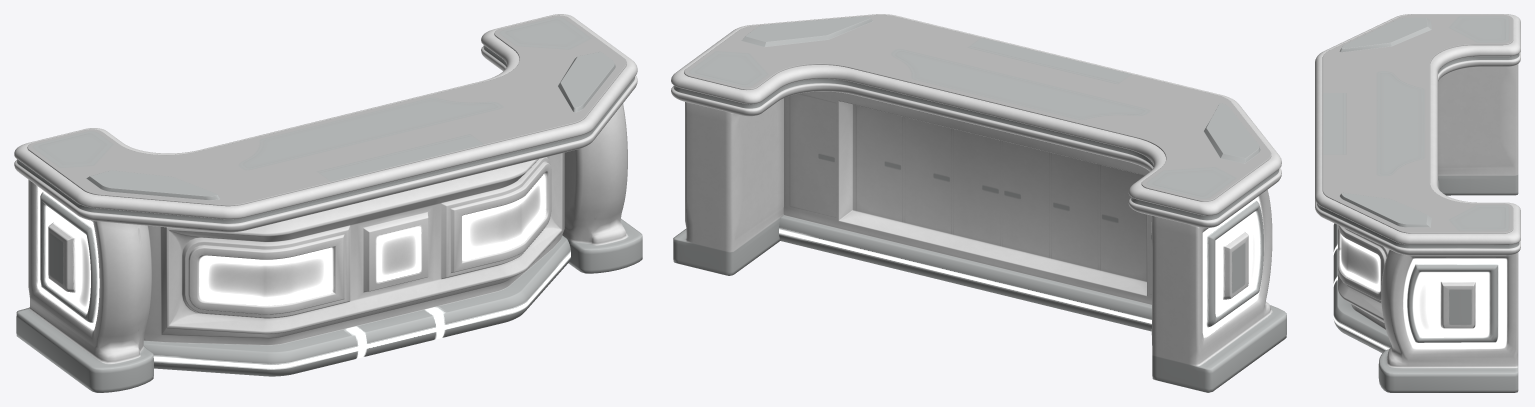
The model's file is BartenderTable04.FBX.
3 renders of one model, left to right at view 1: azimuth 30°, elevation 25°; view 2: azimuth 150°, elevation 25°; view 3: azimuth 270°, elevation 25°, orthographic. The views are drawn at different scales.
Parts seen in each view (by area): view 1: BartenderTable04; view 2: BartenderTable04; view 3: BartenderTable04.
Part boxes in pixels (x1,y1,x2,y2): BartenderTable04: [14, 14, 642, 392]; BartenderTable04: [671, 14, 1286, 392]; BartenderTable04: [1315, 14, 1520, 392].
Size of what is drawn, in the model's own units: 3.35 by 1.12 by 1.29.
